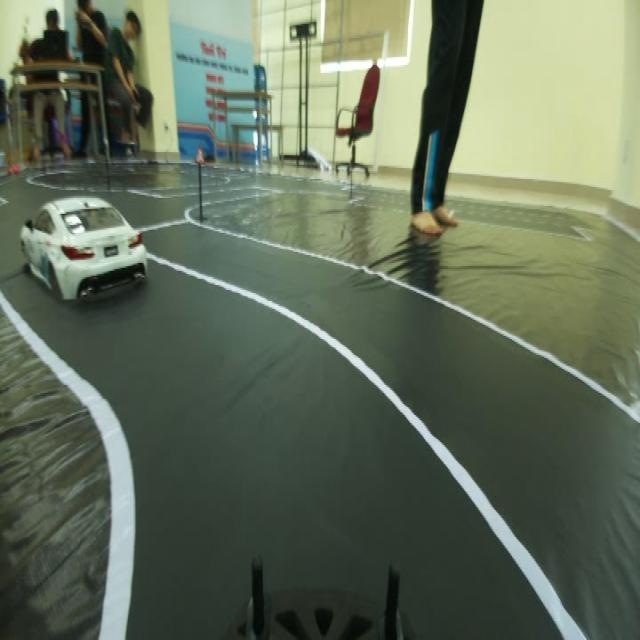car: (13, 184, 158, 309)
